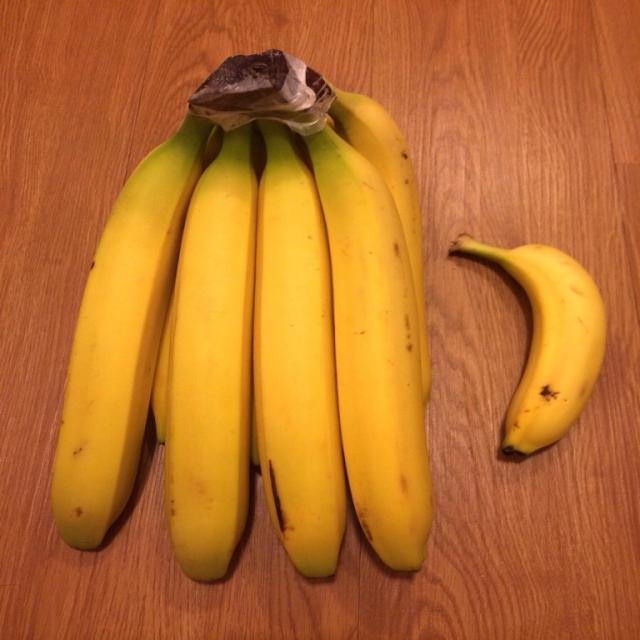Banana: (47, 52, 434, 580), (450, 232, 610, 463)
